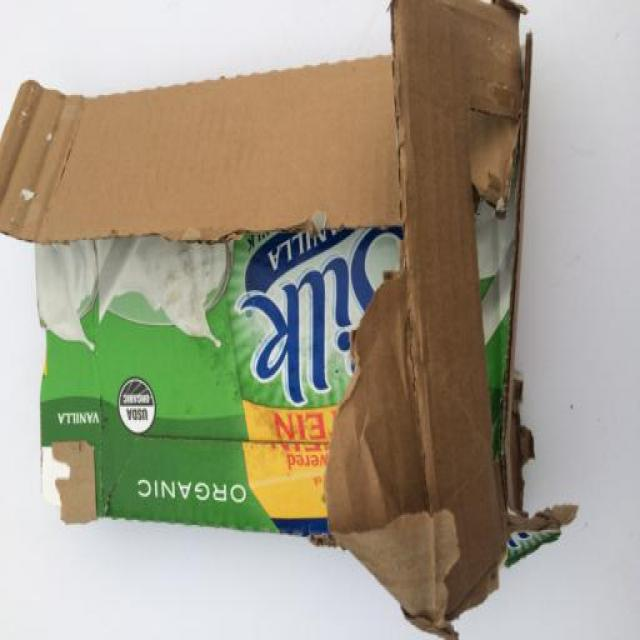cardboard: (1, 5, 585, 640)
